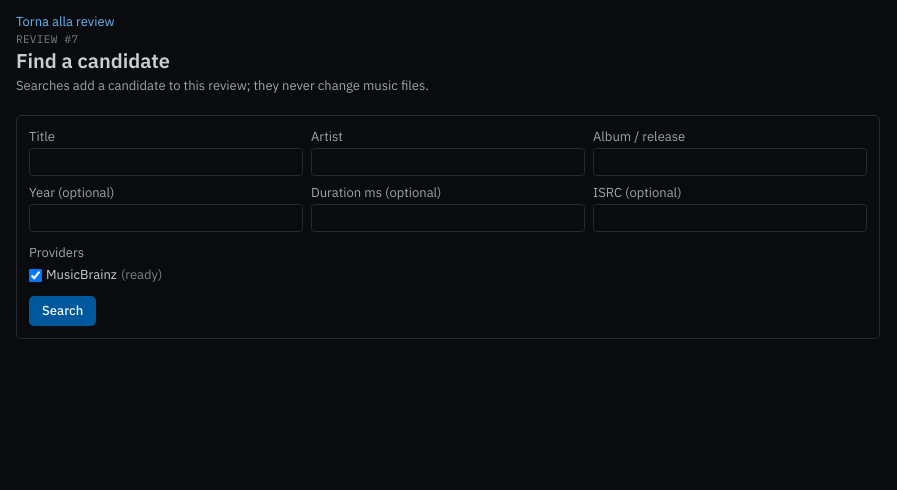
ReviewManualSearch › shows stale hydration cache provenance in provider results
This screenshot has width=897, height=490.
Step 1. Type "Track" into the field labelled "Title" → (166, 162), box [29, 148, 303, 176]
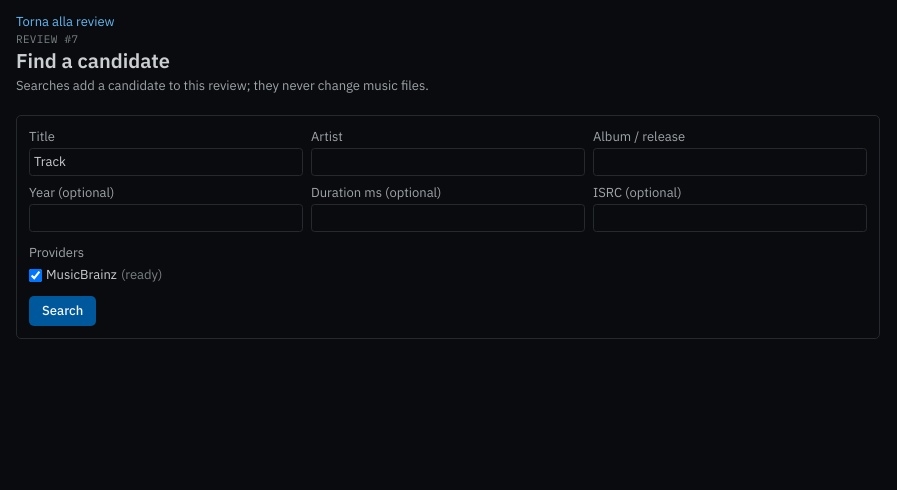
Step 2. Click the button "Search" → (63, 311), box [29, 296, 96, 326]
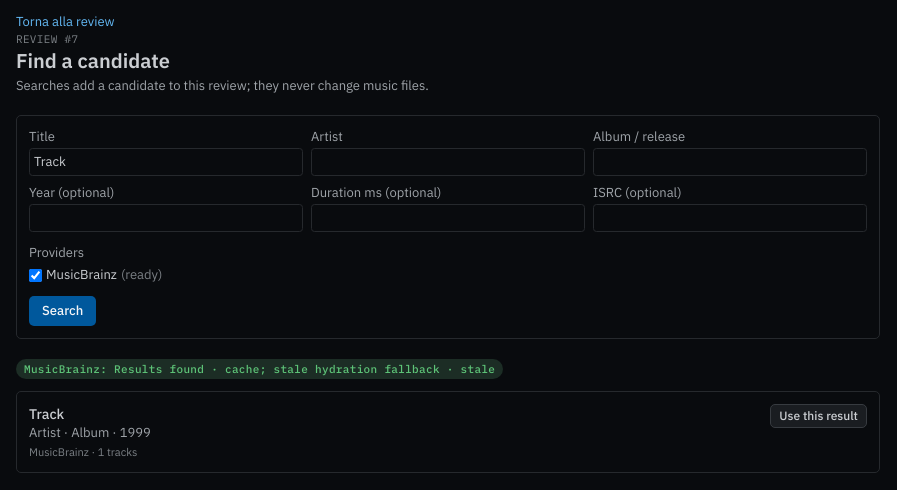
Expected: the text "stale hydration fallback" is shown, [204, 362, 440, 376]
